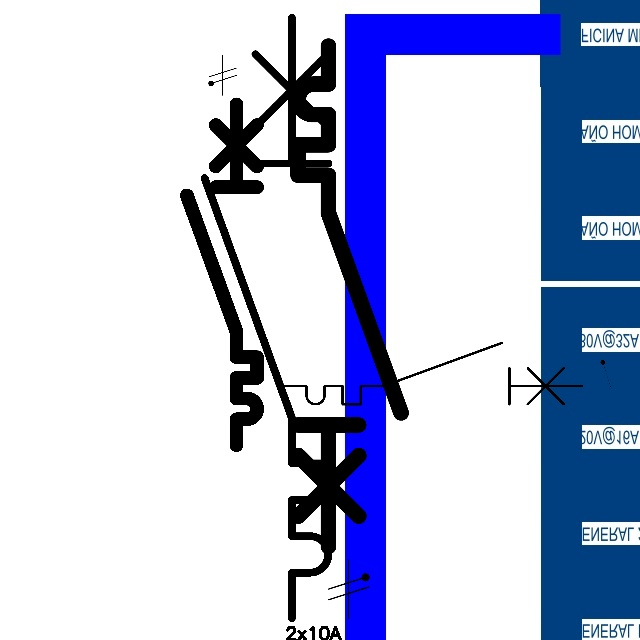interruptor_termomagnetico: (189, 2, 344, 634), (285, 33, 414, 559), (178, 95, 266, 454), (276, 335, 590, 412)
